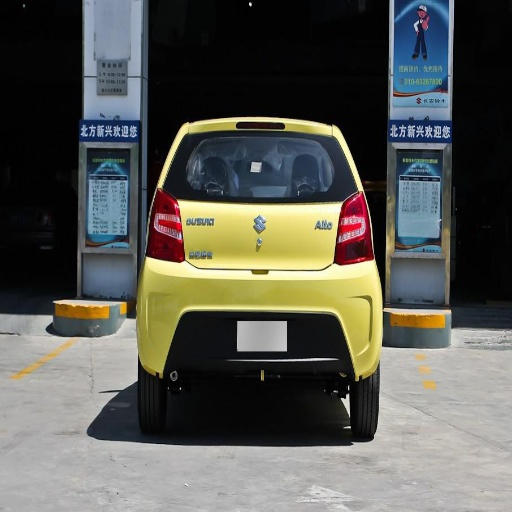back_bumper: (136, 259, 378, 378)
trunk: (147, 200, 347, 309)
